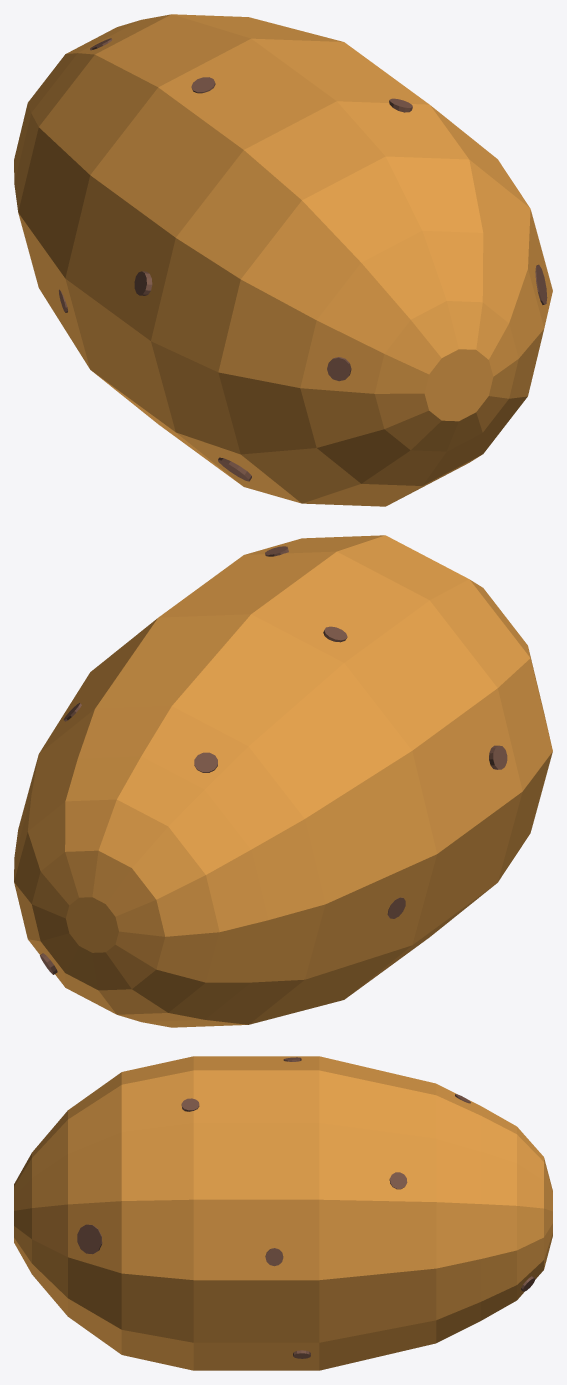
Rendered from Potato.glb.
3 renders of one model, top to bottom at view 1: azimuth 30°, elevation 25°; view 2: azimuth 150°, elevation 25°; view 3: azimuth 270°, elevation 25°, orthographic. The views are drawn at different scales.
Parts seen in each view (by area): view 1: Node; view 2: Node; view 3: Node.
Part boxes in pixels (x1,y1,x2,y2): Node: (14, 14, 552, 506); Node: (14, 535, 552, 1027); Node: (14, 1056, 552, 1370).
Size of the model in its own units: 0.3514 by 0.3514 by 0.6.
